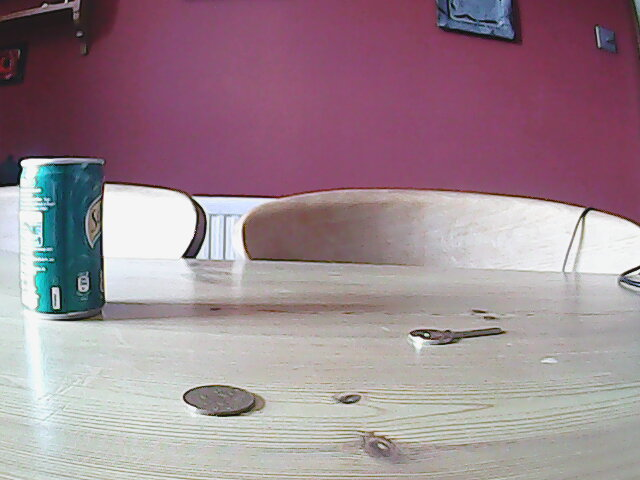Can: (16, 155, 114, 324)
Coin: (183, 384, 258, 419)
Key: (408, 325, 506, 348)
